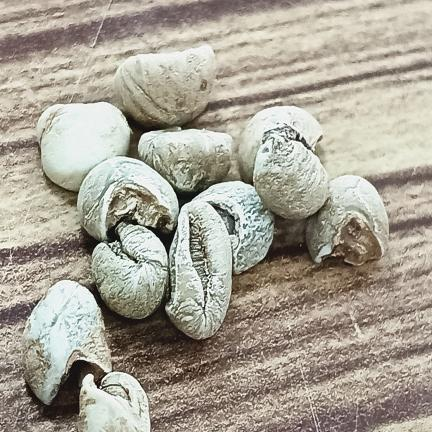cut: (22, 280, 111, 404), (165, 201, 232, 339), (77, 156, 179, 241), (36, 102, 131, 192), (114, 45, 217, 127), (192, 181, 274, 274), (306, 175, 389, 265), (92, 222, 169, 319), (253, 128, 329, 218), (239, 106, 322, 183), (138, 127, 232, 194), (78, 372, 150, 432)
